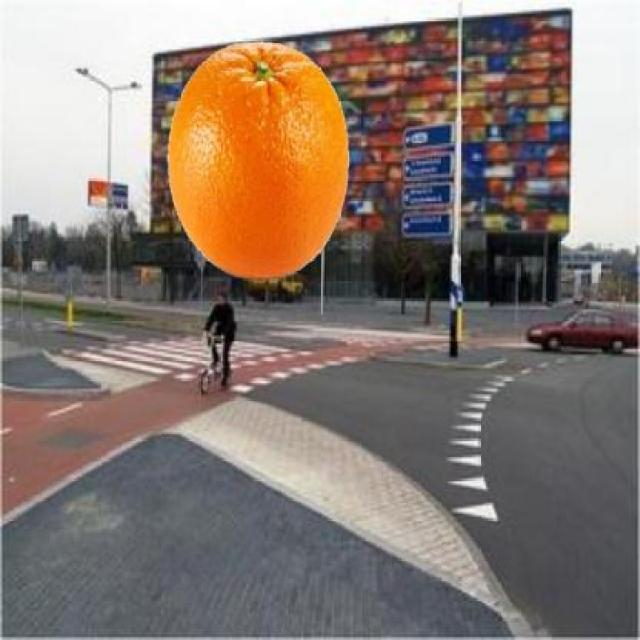Orange: (165, 40, 349, 280)
